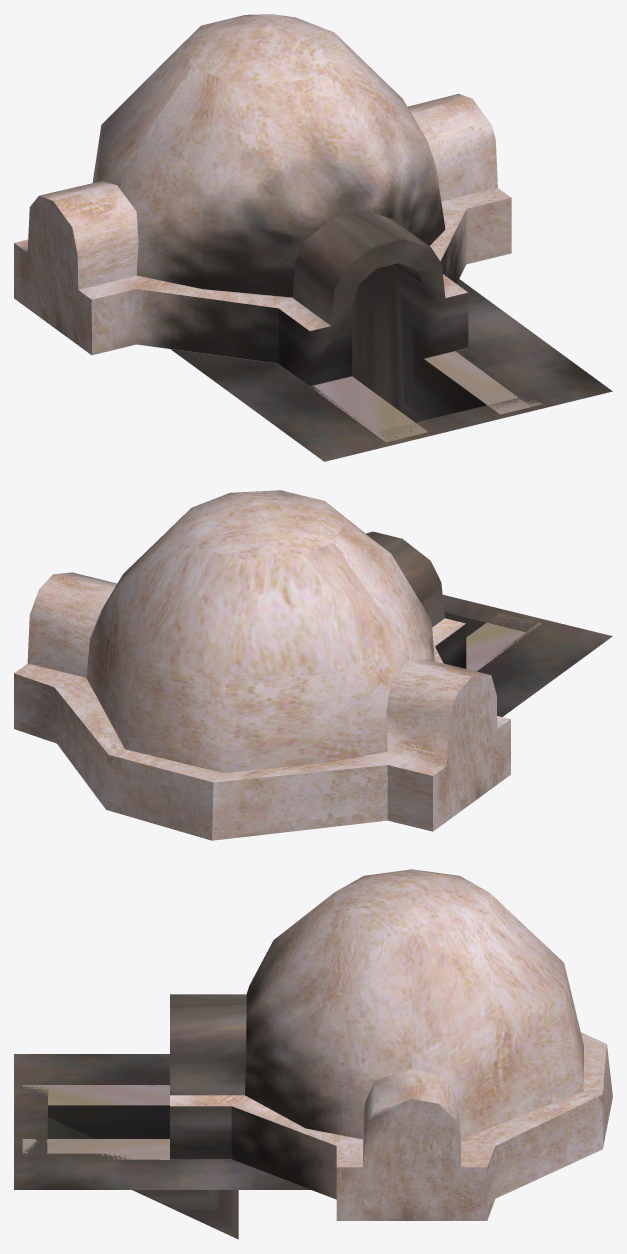
File: thm_tato_luke_farm_dome_l2.fbx
3 views of the same model, one above another, from view 1: azimuth 30°, elevation 25°; view 2: azimuth 150°, elevation 25°; view 3: azimuth 270°, elevation 25° (orthographic). The views are drawn at different scales.
Visible parts, largest first — view 1: mesh_node; view 2: mesh_node; view 3: mesh_node.
Part boxes in pixels (x1,y1,x2,y2): mesh_node: (14,14,612,461); mesh_node: (14,490,612,840); mesh_node: (14,869,612,1239).
Bounding box in the file's own units: 6.7 × 5.36 × 8.57.
